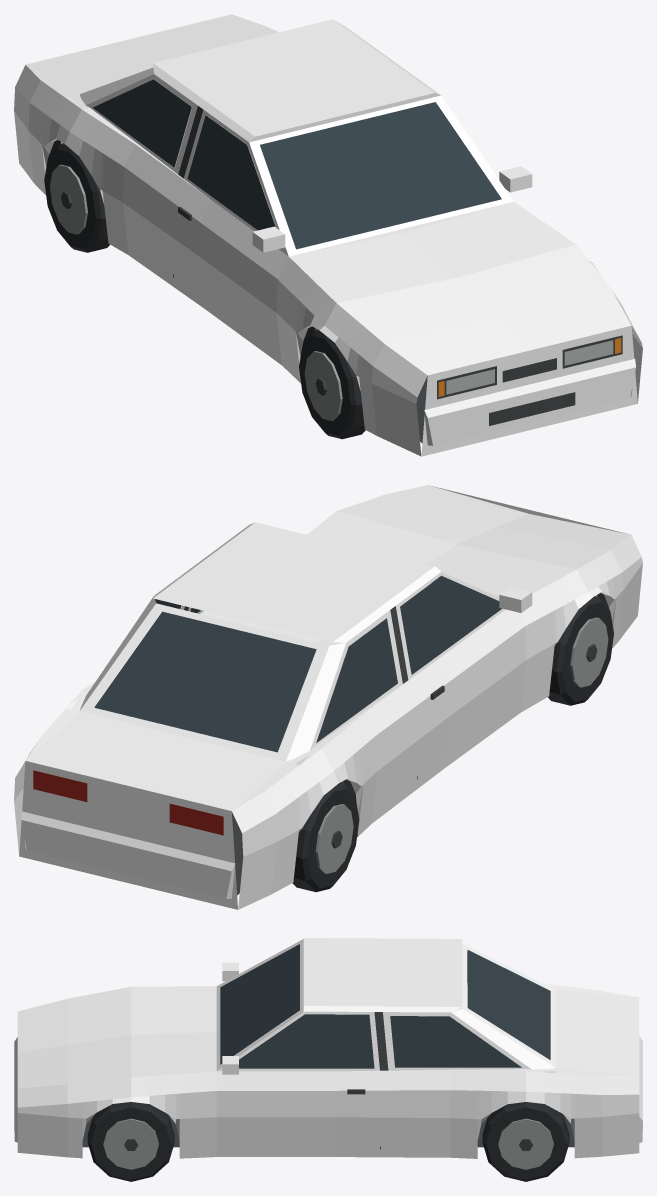
File: kanaya_shinonome_s.glb
3 renders of one model, top to bottom at view 1: azimuth 30°, elevation 25°; view 2: azimuth 150°, elevation 25°; view 3: azimuth 270°, elevation 25°, orthographic. The views are drawn at different scales.
Visible parts, largest first — view 1: kanaya_shinonome_s; view 2: kanaya_shinonome_s; view 3: kanaya_shinonome_s.
Part boxes in pixels (x1,y1,x2,y2): kanaya_shinonome_s: (14, 14, 642, 456); kanaya_shinonome_s: (14, 485, 642, 909); kanaya_shinonome_s: (14, 938, 642, 1181).
Bounding box in the file's own units: 1.75 × 1.27 × 4.49.
8 materials, 1 textured.
